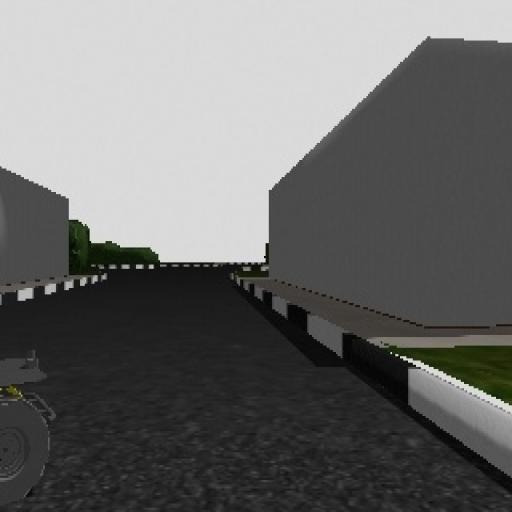huskya200: (0, 346, 62, 512)
